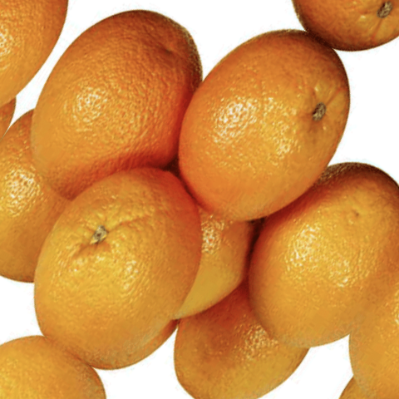orange: (144, 0, 391, 258), (0, 0, 246, 249), (0, 138, 237, 393), (215, 139, 399, 383)
